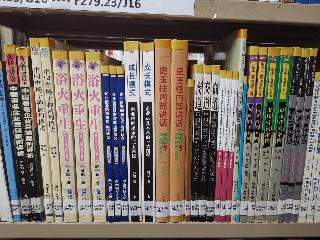book-spine: (4, 44, 33, 224), (51, 48, 81, 222), (275, 47, 304, 223), (16, 47, 45, 222), (28, 36, 55, 223), (253, 47, 281, 223), (67, 50, 95, 223), (38, 38, 64, 223), (266, 46, 292, 224), (291, 48, 317, 224), (285, 48, 310, 223), (236, 47, 260, 224), (121, 40, 143, 223), (84, 52, 107, 223), (246, 47, 268, 223), (151, 39, 172, 223), (297, 71, 320, 223), (230, 29, 248, 222), (138, 42, 157, 224), (169, 40, 186, 224), (204, 66, 221, 223), (197, 65, 213, 223), (100, 65, 116, 222), (108, 64, 122, 222), (190, 65, 204, 223), (219, 71, 233, 223), (225, 71, 239, 223), (116, 66, 129, 223), (213, 70, 226, 223), (235, 76, 248, 223), (184, 79, 195, 223)
